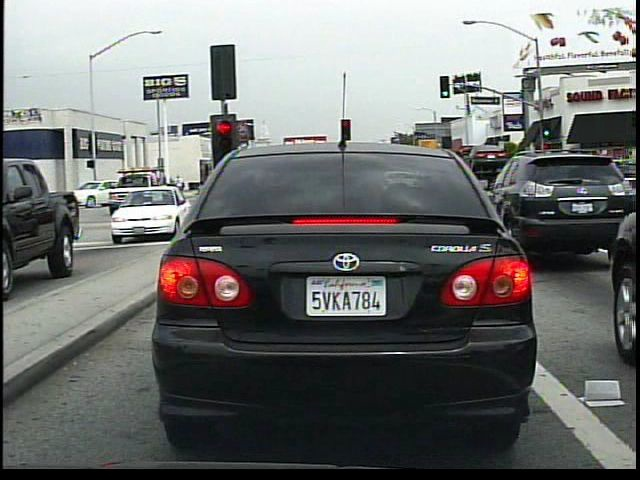person: (170, 168, 191, 194)
